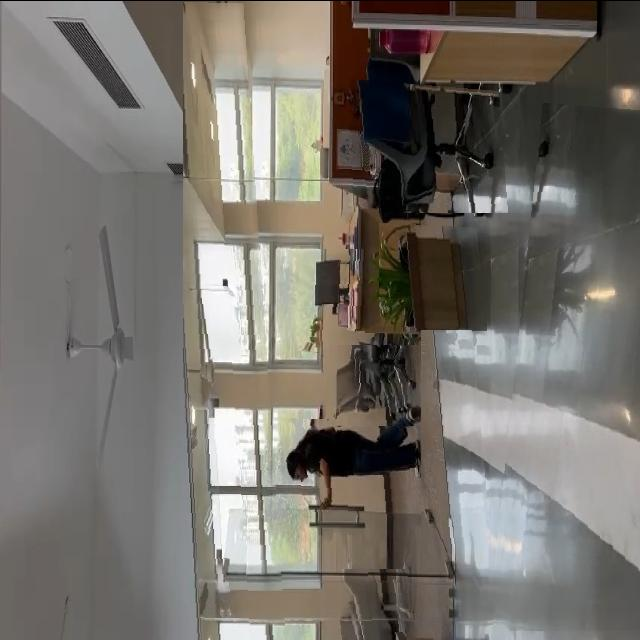floor: (488, 101, 640, 630), (422, 329, 492, 546)
furniture: (349, 77, 509, 212), (379, 221, 488, 330), (337, 344, 426, 426), (304, 248, 366, 341), (340, 568, 414, 640)
moving_object: (281, 417, 432, 517)
wall: (183, 0, 286, 640)
